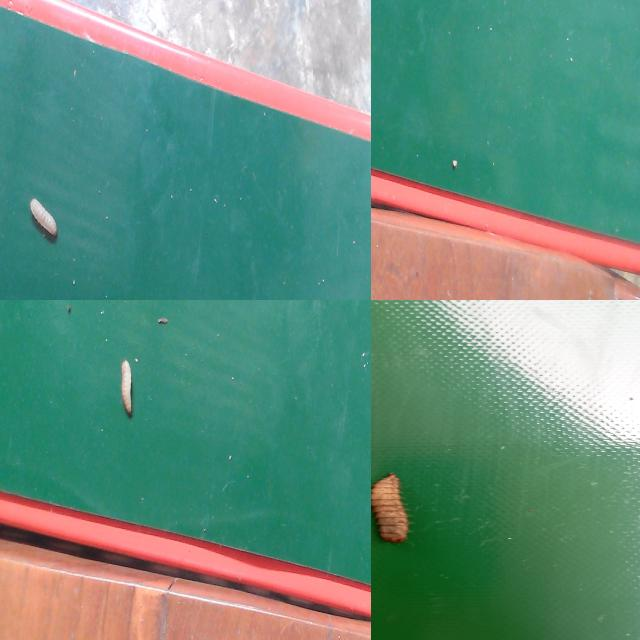Maggot: (371, 475, 410, 546), (28, 199, 59, 244), (118, 358, 135, 419)
